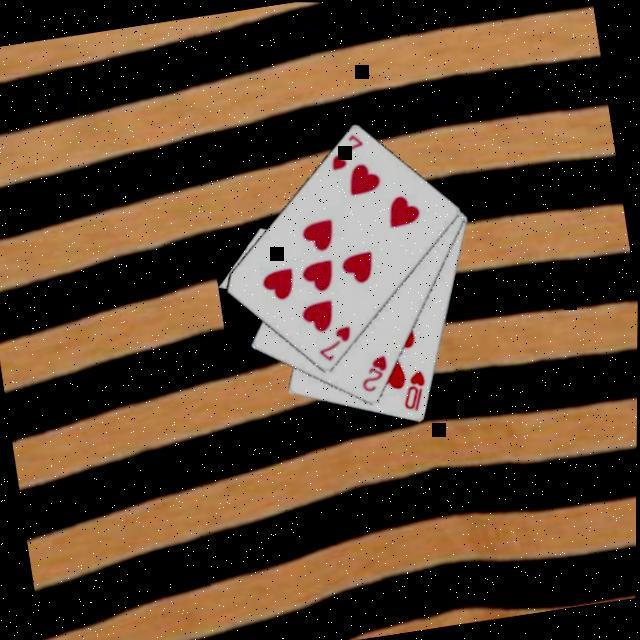10H: (395, 366, 432, 414)
2H: (354, 350, 394, 395)
7H: (322, 128, 368, 174), (312, 321, 356, 365)
